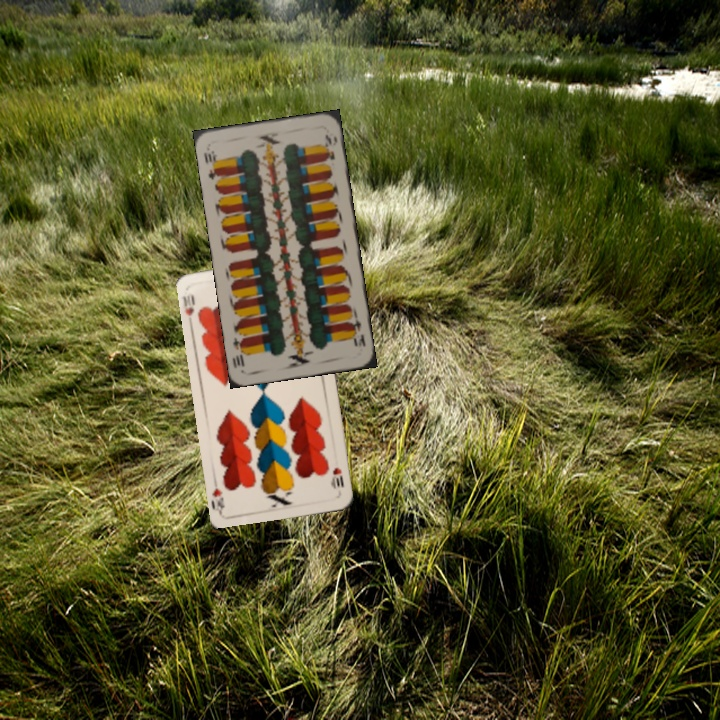E10: (346, 312, 368, 349), (200, 147, 222, 182)
H10: (179, 289, 198, 319), (328, 463, 346, 491)
